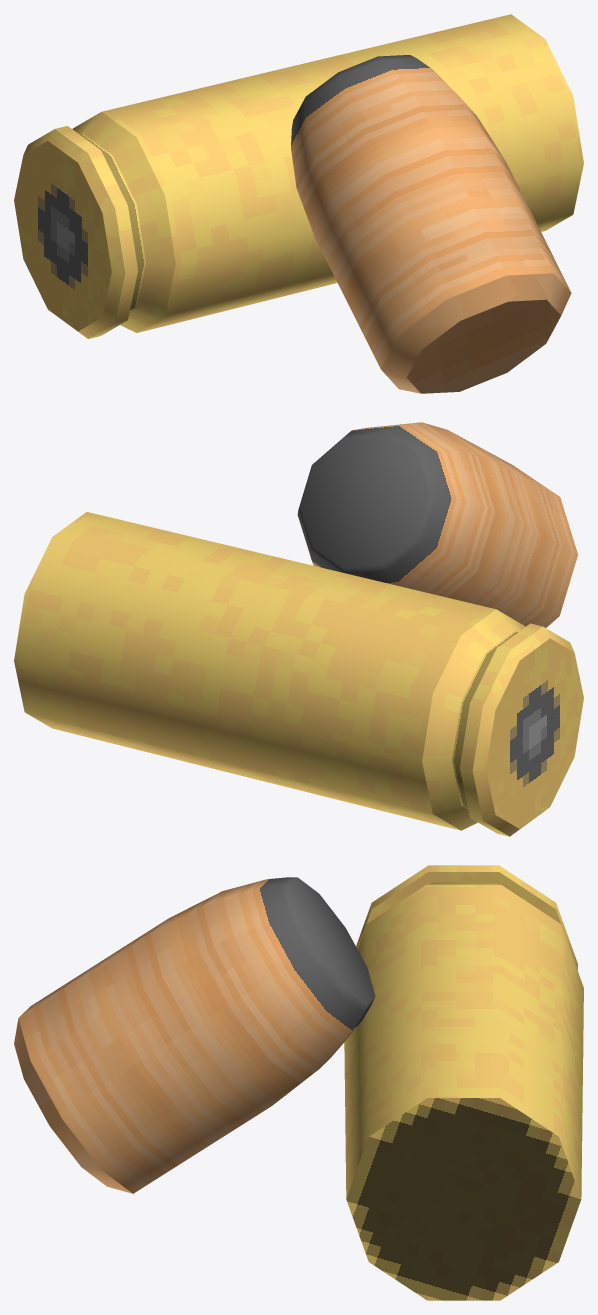
The model's file is ammomaker_PartsStraightL.fbx.
3 views of the same model, one above another, from view 1: azimuth 30°, elevation 25°; view 2: azimuth 150°, elevation 25°; view 3: azimuth 270°, elevation 25° (orthographic). The views are drawn at different scales.
Visible parts, largest first — view 1: ammomaker_PartsStraightL; view 2: ammomaker_PartsStraightL; view 3: ammomaker_PartsStraightL.
Boxes of the visible parts, box(x1,y1,x2,y2) form: ammomaker_PartsStraightL: box(14, 14, 583, 393); ammomaker_PartsStraightL: box(14, 422, 583, 836); ammomaker_PartsStraightL: box(14, 865, 583, 1300).
Bounding box in the file's own units: 3.26 × 1.88 × 3.27.
